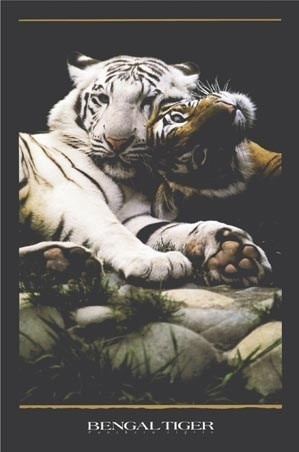tigre: (20, 54, 274, 287), (148, 89, 282, 211)
